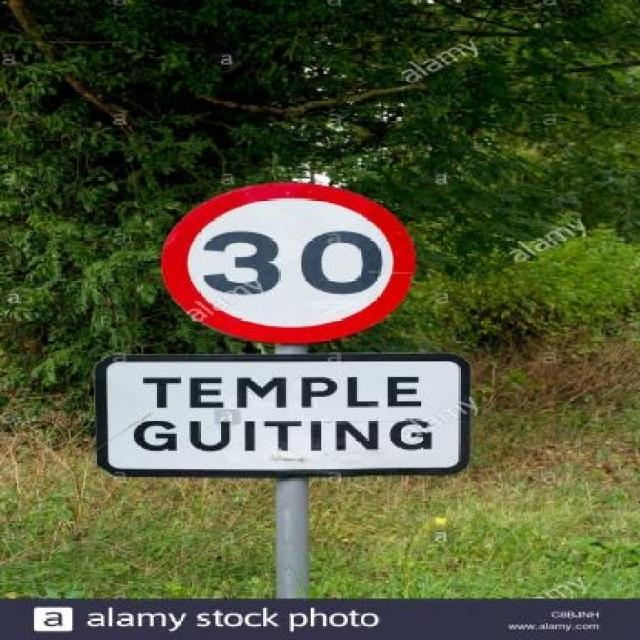forb_speed_over_30: (163, 186, 420, 346)
